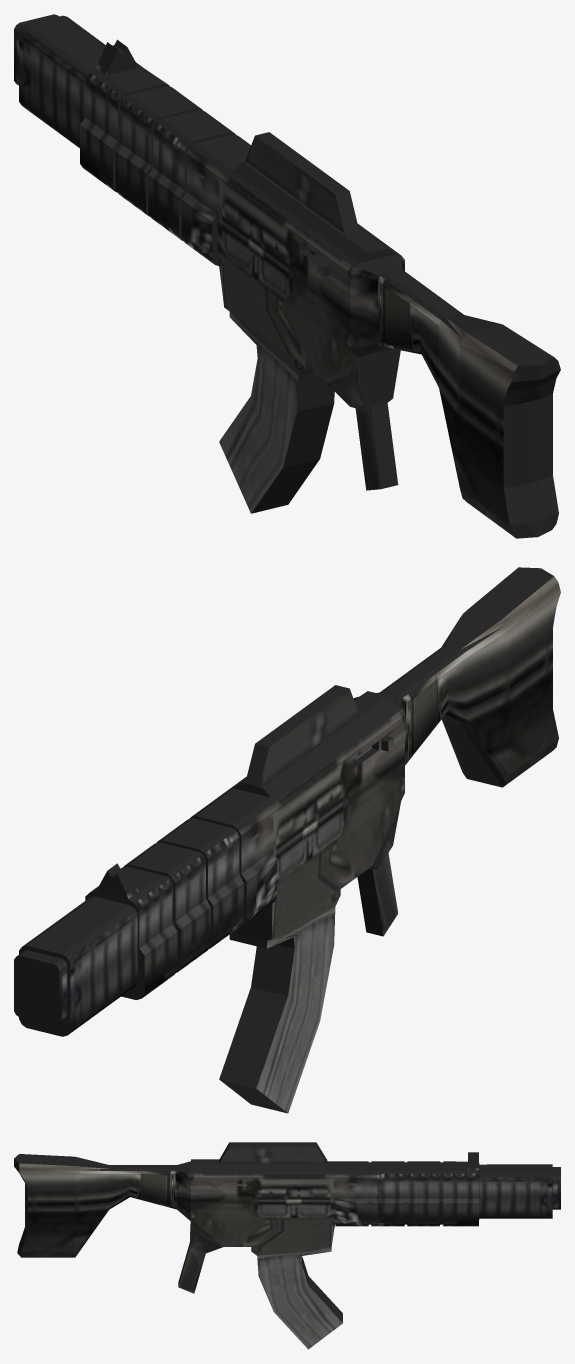
Rendered from asault_rifle.obj.
3 views of the same model, one above another, from view 1: azimuth 30°, elevation 25°; view 2: azimuth 150°, elevation 25°; view 3: azimuth 270°, elevation 25° (orthographic). The views are drawn at different scales.
Parts seen in each view (by area): view 1: nsoldier.001; view 2: nsoldier.001; view 3: nsoldier.001.
Boxes of the visible parts, x1,y1,x2,y2 form: nsoldier.001: (14, 14, 560, 538); nsoldier.001: (14, 567, 560, 1113); nsoldier.001: (14, 1142, 560, 1349).
Bounding box in the file's own units: 0.1158 × 0.5773 × 1.43.
